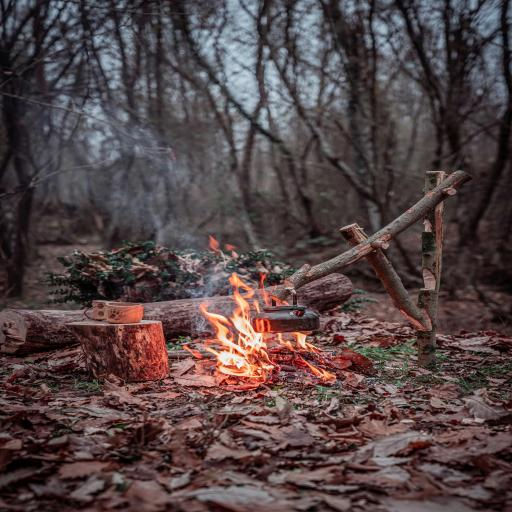campfire: (184, 234, 390, 391)
